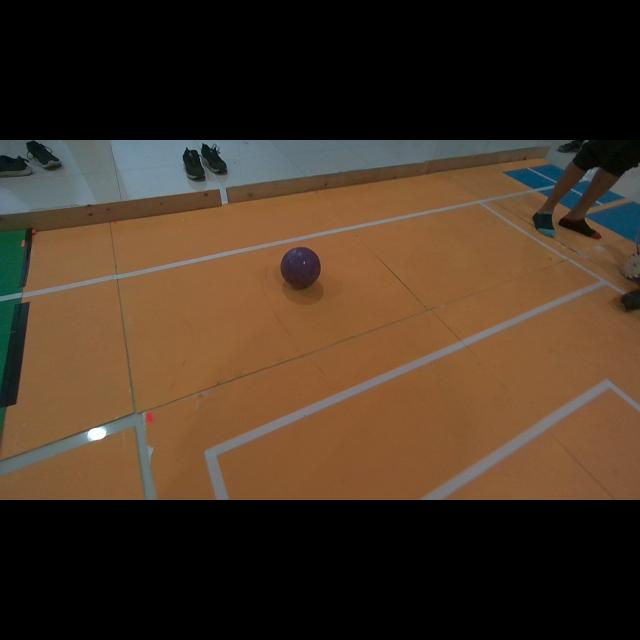P: (280, 248, 321, 288)
